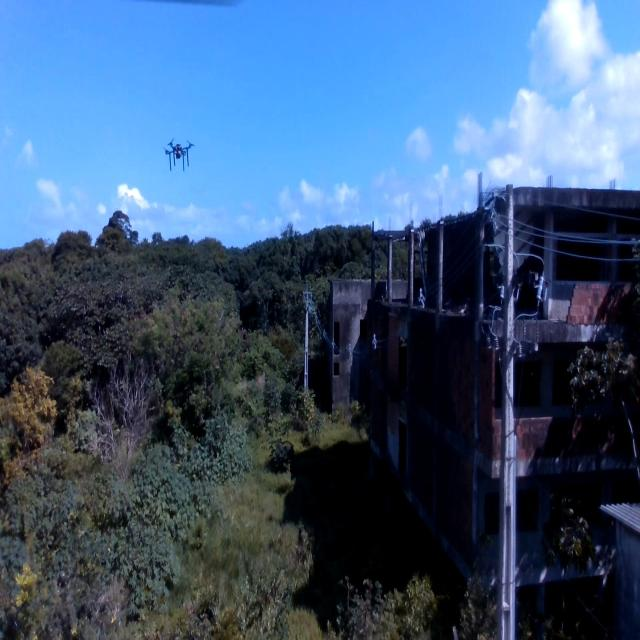-uav-: (158, 130, 198, 176)
